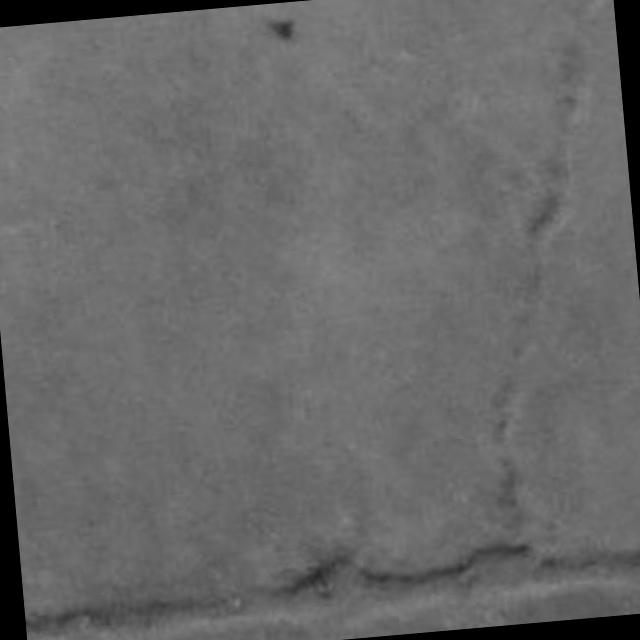crack: (359, 542, 533, 593), (25, 598, 240, 636)
